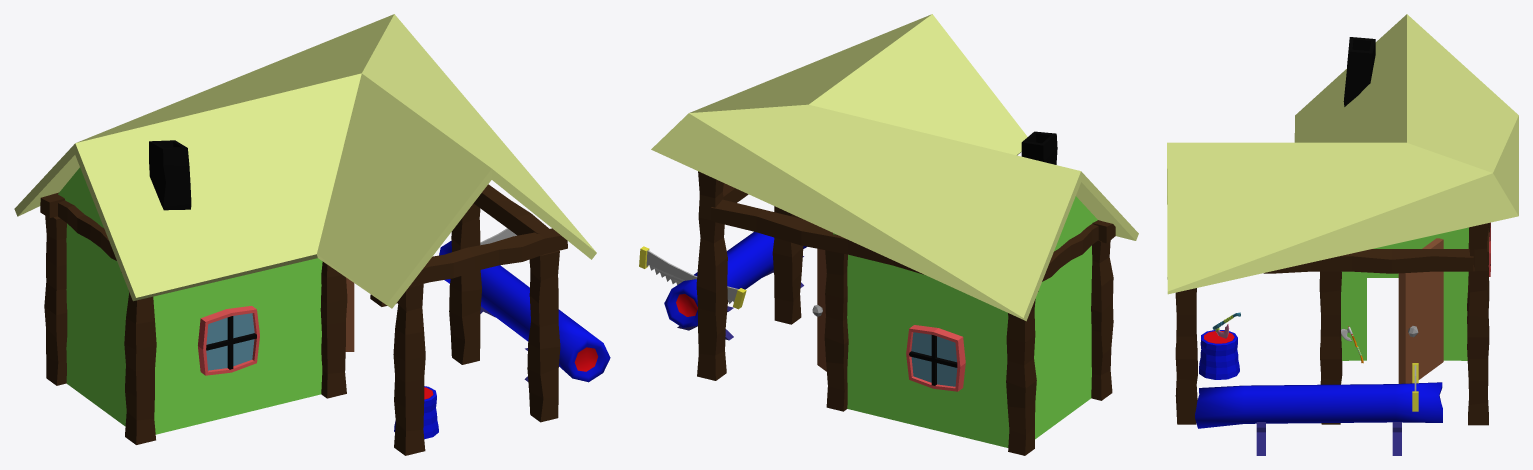
File: Sawmill_Large.fbx
3 views of the same model, side by side, from view 1: azimuth 30°, elevation 25°; view 2: azimuth 150°, elevation 25°; view 3: azimuth 270°, elevation 25° (orthographic). The views are drawn at different scales.
Parts seen in each view (by area): view 1: Sawmill_L; view 2: Sawmill_L; view 3: Sawmill_L.
Part boxes in pixels (bbox=[...]): Sawmill_L: bbox=[14, 14, 610, 455]; Sawmill_L: bbox=[639, 14, 1138, 455]; Sawmill_L: bbox=[1167, 14, 1518, 455].
Bounding box in the file's own units: 5748 × 3331 × 4144.
